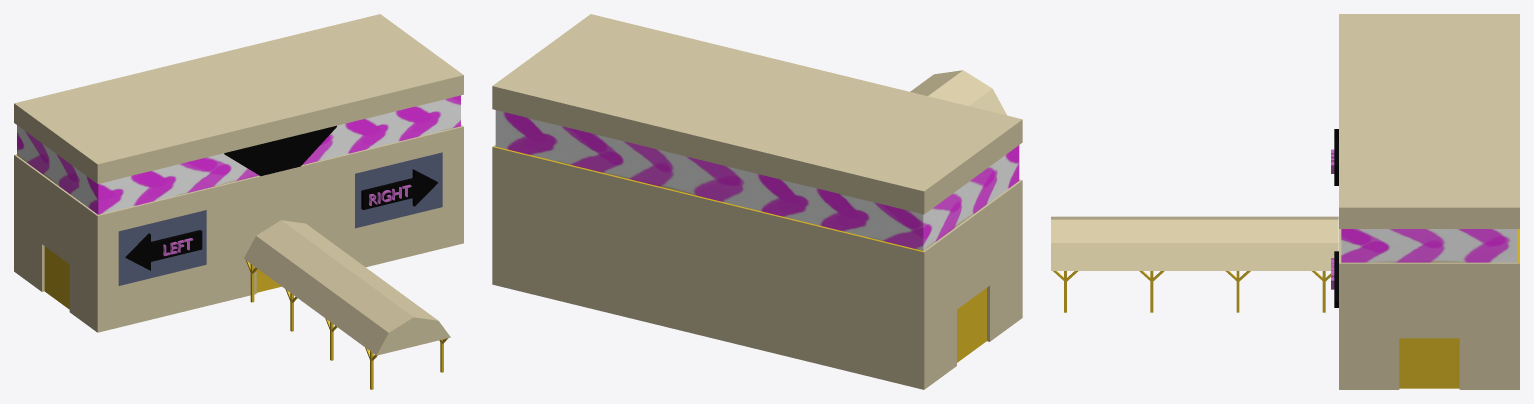
File: conventionBuilding_Geo.fbx
3 views of the same model, side by side, from view 1: azimuth 30°, elevation 25°; view 2: azimuth 150°, elevation 25°; view 3: azimuth 270°, elevation 25° (orthographic). The views are drawn at different scales.
Parts seen in each view (by area): view 1: Text.007; view 2: Text.007; view 3: Text.007.
Boxes of the visible parts, left/top/right/bottom form: Text.007: left=14, top=14, right=463, bottom=389; Text.007: left=492, top=14, right=1022, bottom=389; Text.007: left=1051, top=14, right=1519, bottom=389.
Bounding box in the file's own units: 2529 × 1112 × 2589.
Materials: 7 (1 with a texture image).
